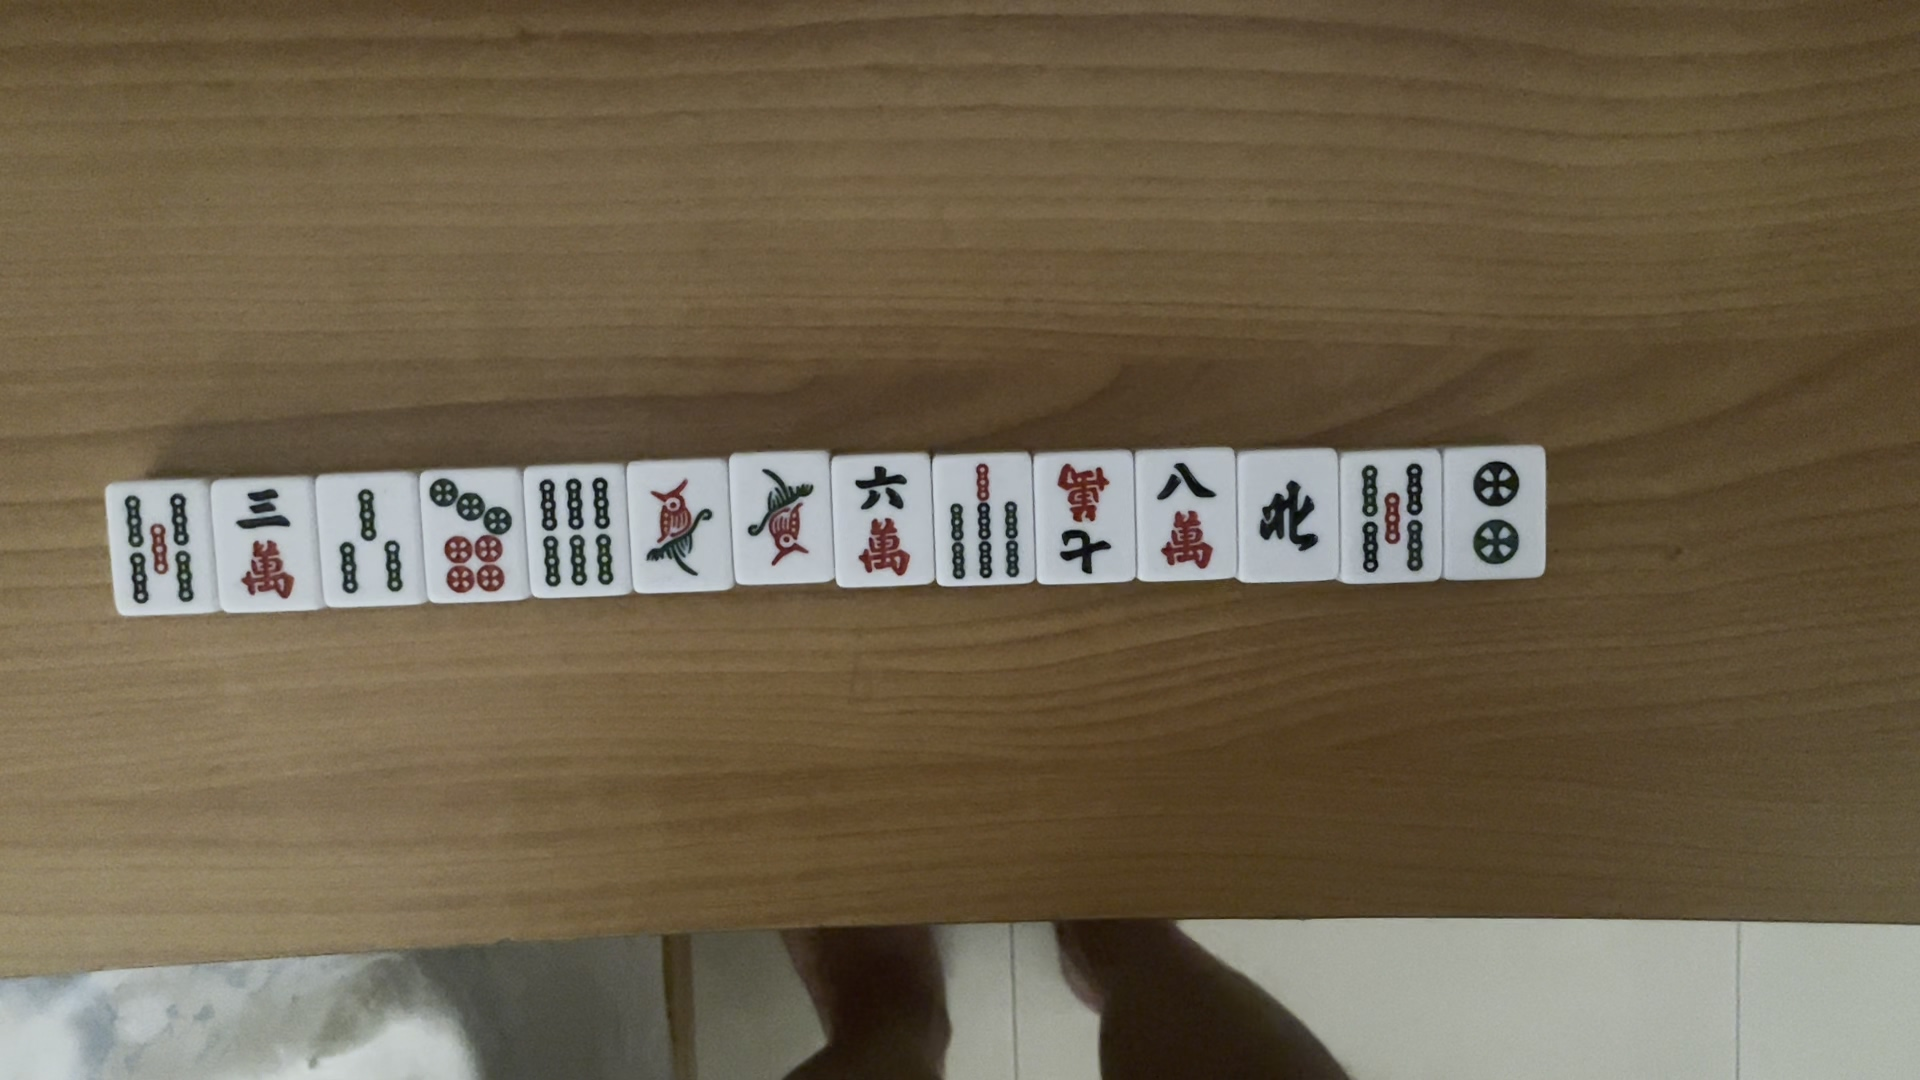b-1: (638, 475, 723, 583), (739, 463, 824, 571)
b-3: (322, 486, 415, 598)
b-5: (116, 489, 199, 605), (1350, 461, 1433, 577)
b-6: (528, 470, 626, 591)
b-7: (941, 459, 1029, 585)
c-3: (223, 489, 309, 599)
c-6: (847, 464, 920, 579)
c-7: (1041, 462, 1120, 579)
c-8: (1147, 454, 1228, 575)
d-2: (1461, 462, 1535, 564)
d-7: (426, 477, 515, 596)
honors-north: (1251, 473, 1329, 556)
